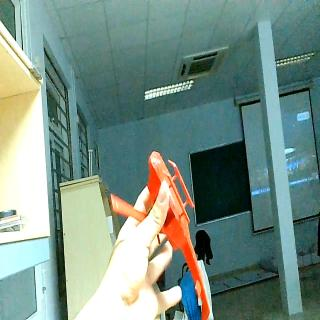Helicopter: (146, 149, 211, 320)
